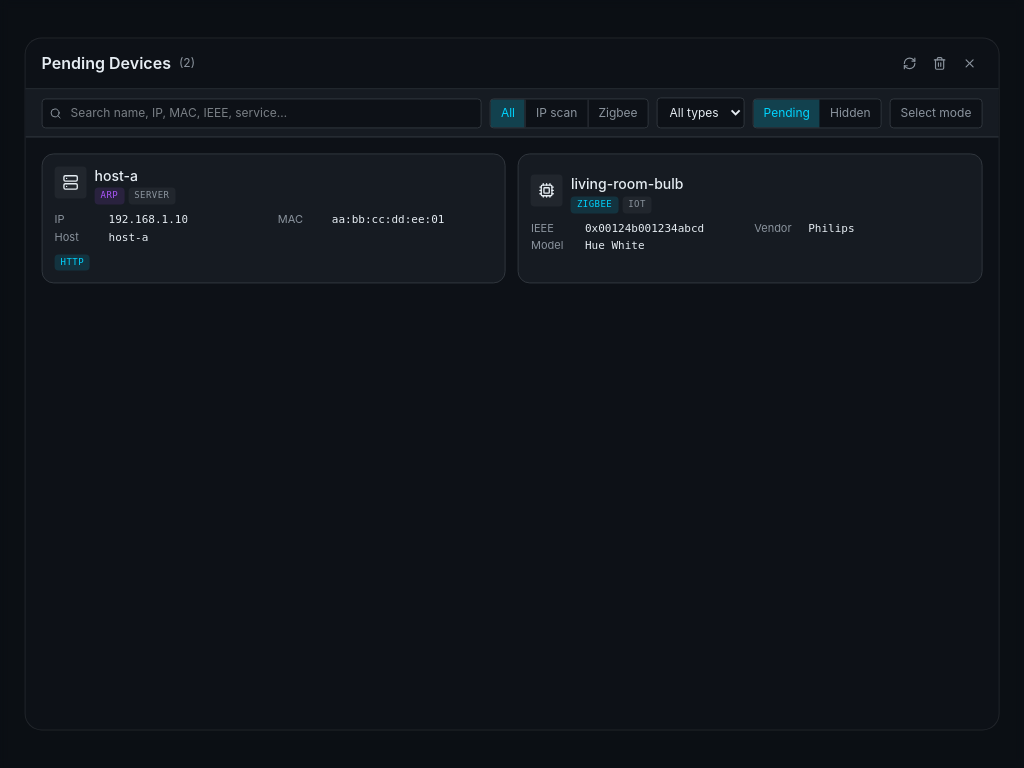
Test: PendingDevicesModal › filters by source (zigbee only)
Expected: the button with test id "pending-card-dev-a" is shown, left=42, top=153, right=506, bottom=284
What coordinates should you click on to do the following:
click the button "Zigbee"
I would click on:
 (618, 113)
Its box is left=587, top=99, right=648, bottom=127.
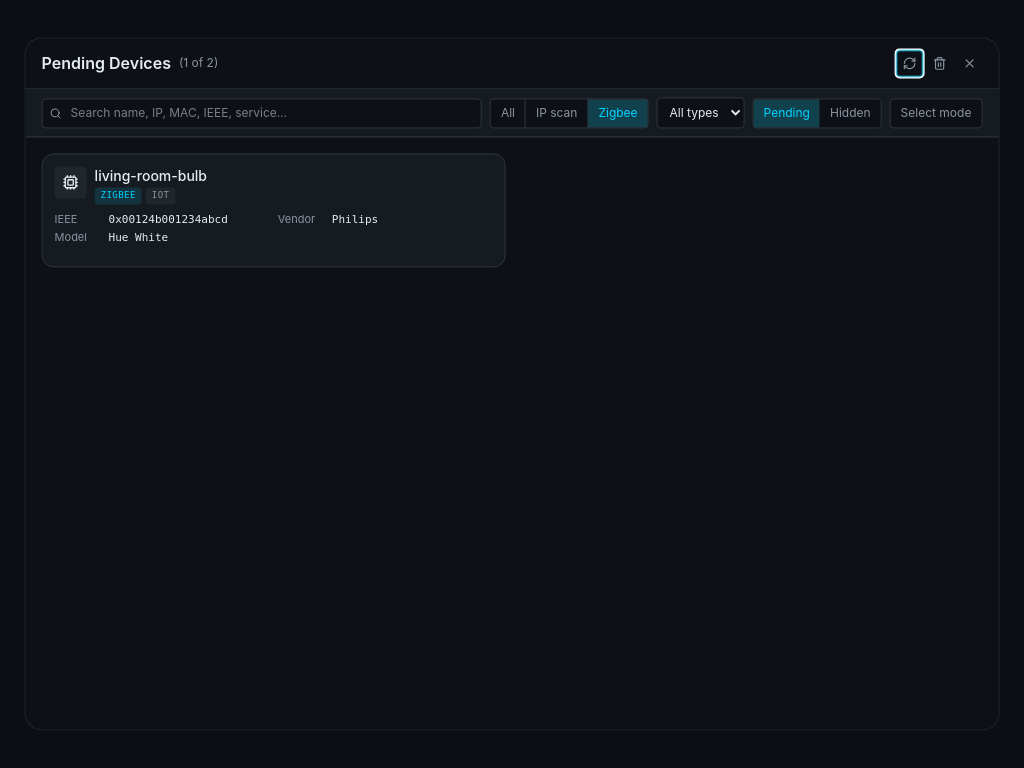
Expected: the button with test id "pending-card-dev-b" is shown, left=42, top=153, right=506, bottom=267
Expected: the button with test id "pending-card-dev-a" is gone
